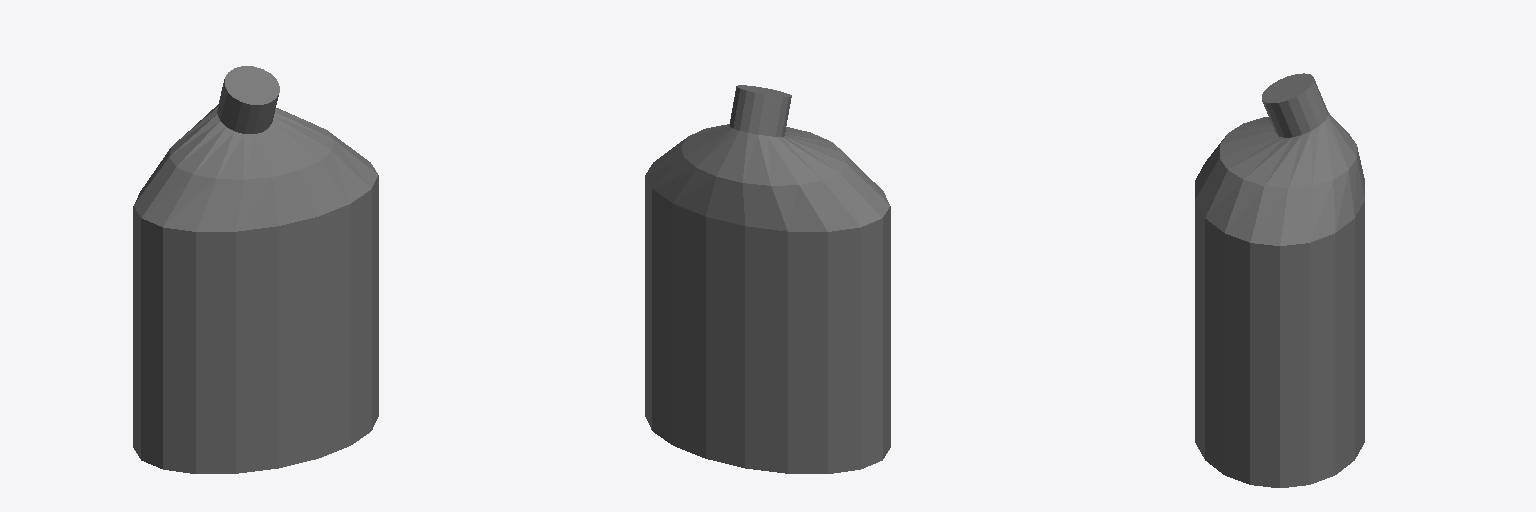
File: Player_Chest.obj
3 renders of one model, left to right at view 1: azimuth 30°, elevation 25°; view 2: azimuth 150°, elevation 25°; view 3: azimuth 270°, elevation 25°, orthographic.
Parts seen in each view (by area): view 1: Cylinder001; view 2: Cylinder001; view 3: Cylinder001.
Part boxes in pixels (x1,y1,x2,y2): Cylinder001: (133,66,378,473); Cylinder001: (645,85,890,473); Cylinder001: (1195,73,1364,487).
Size of the model in its own units: 29.6 by 43.55 by 19.01.